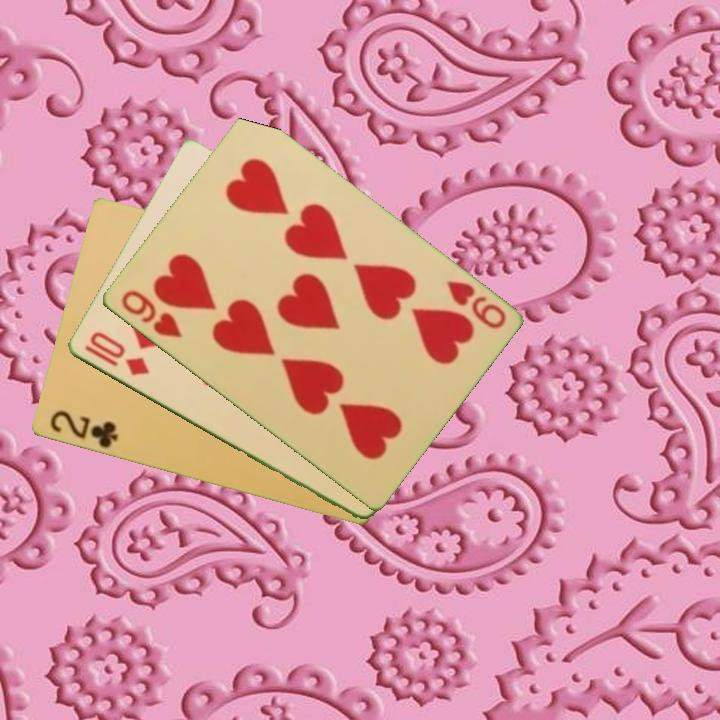10d: (80, 328, 152, 380)
2c: (46, 407, 121, 452)
9h: (441, 276, 509, 332), (116, 286, 185, 341)
